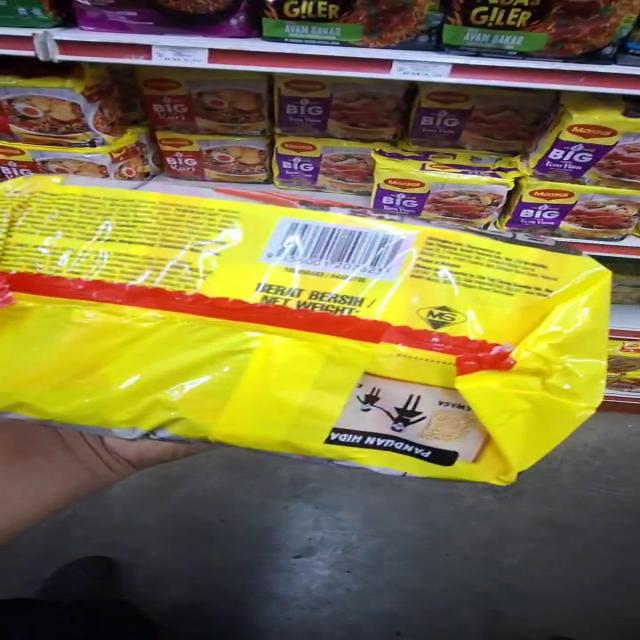Maggi: (10, 265, 622, 496), (232, 235, 640, 342), (8, 178, 290, 312)
